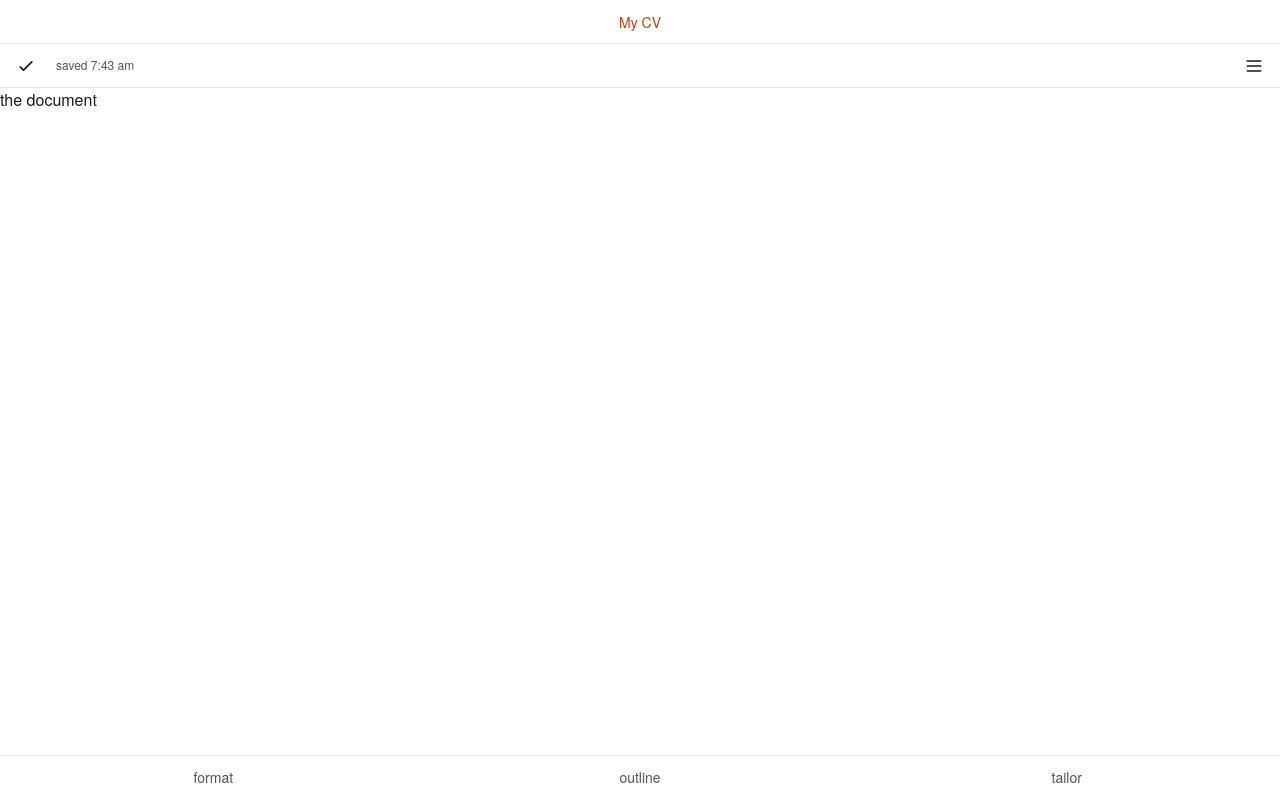
Test: the editor below lg › reaches AI tailoring and the CV check from the dock
Click the tab "outline": (640, 778) [427,756,853,799]
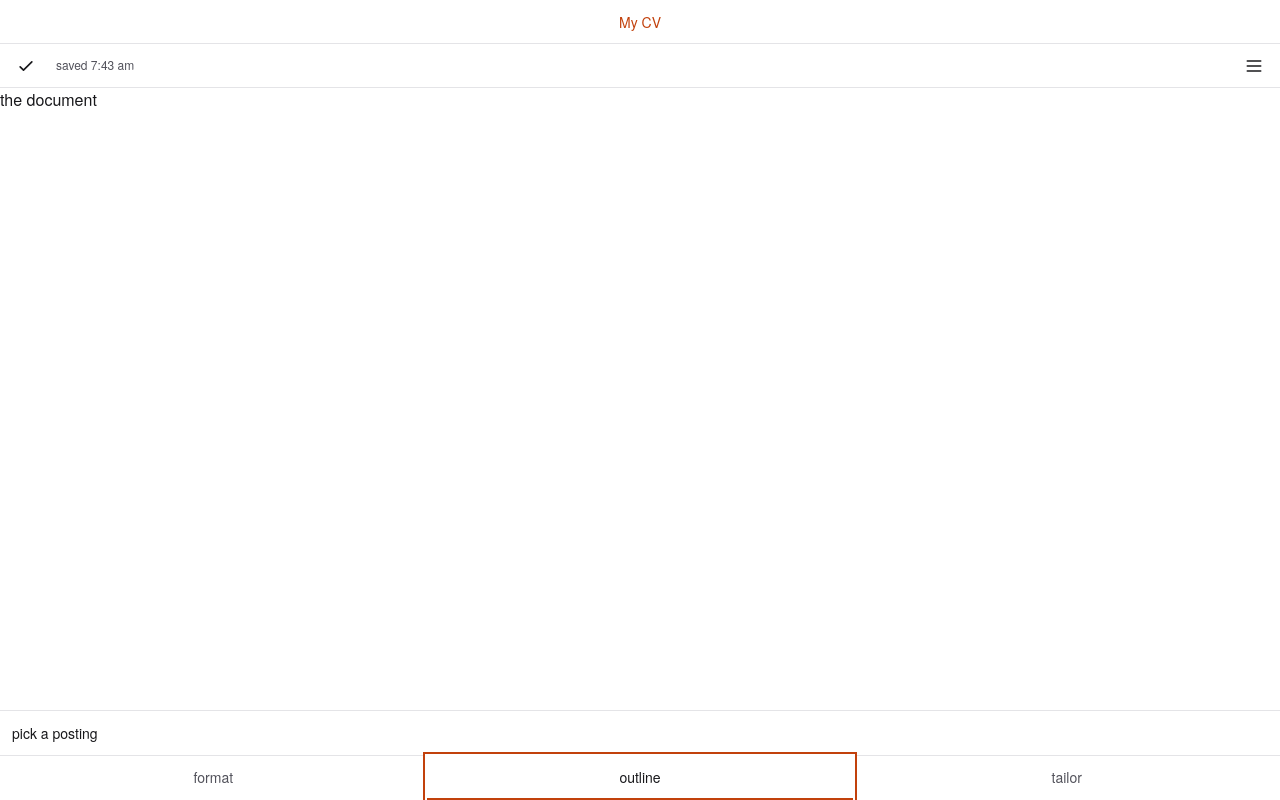
Result: the text "pick a posting" is shown at [12,723,98,743]
Click the tab "tailor": (1067, 778) [853,756,1279,799]
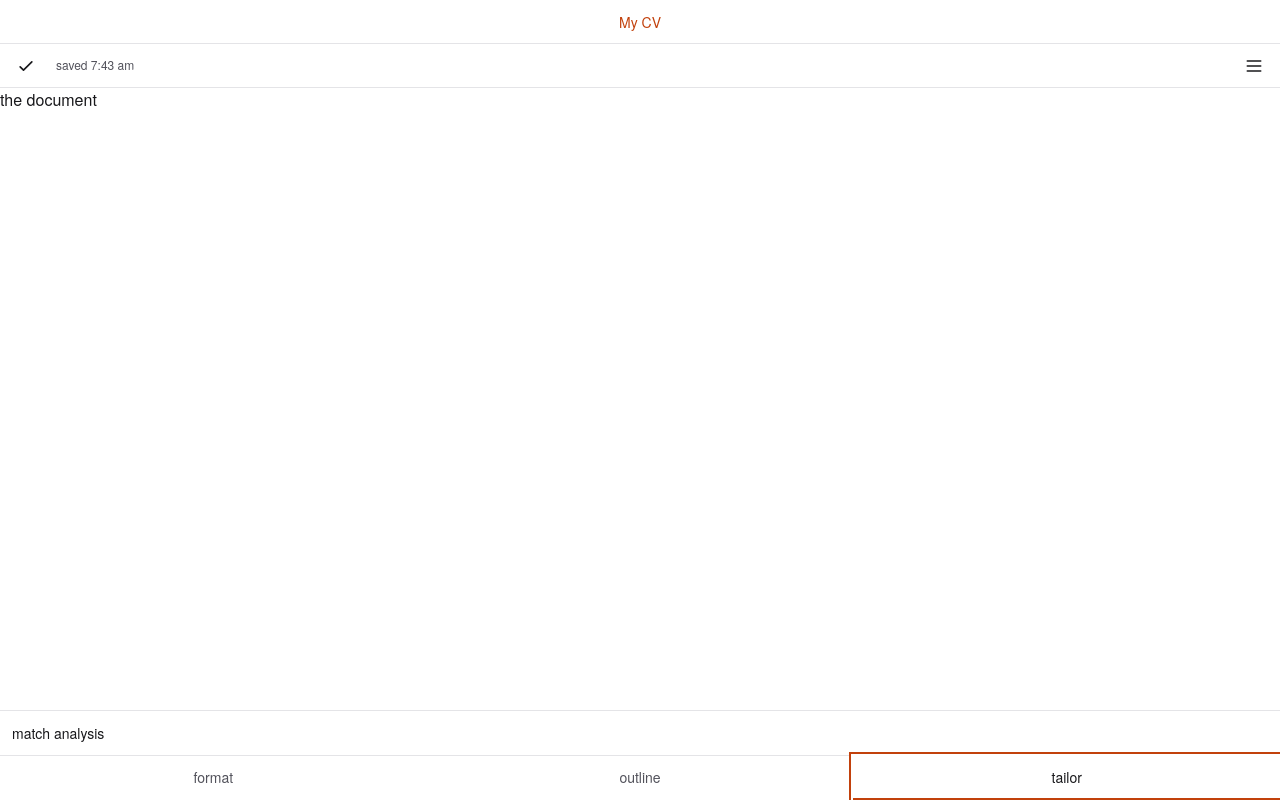
Result: the text "match analysis" is shown at [12,723,104,743]
